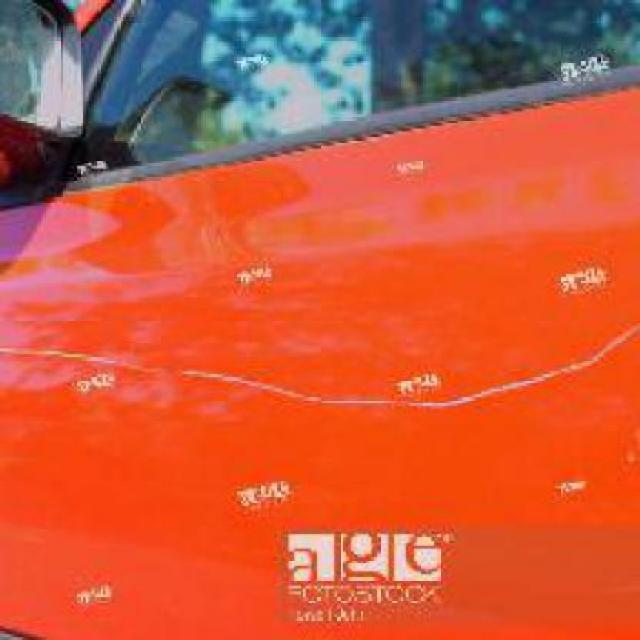dent-or-scratch: (11, 316, 638, 422)
